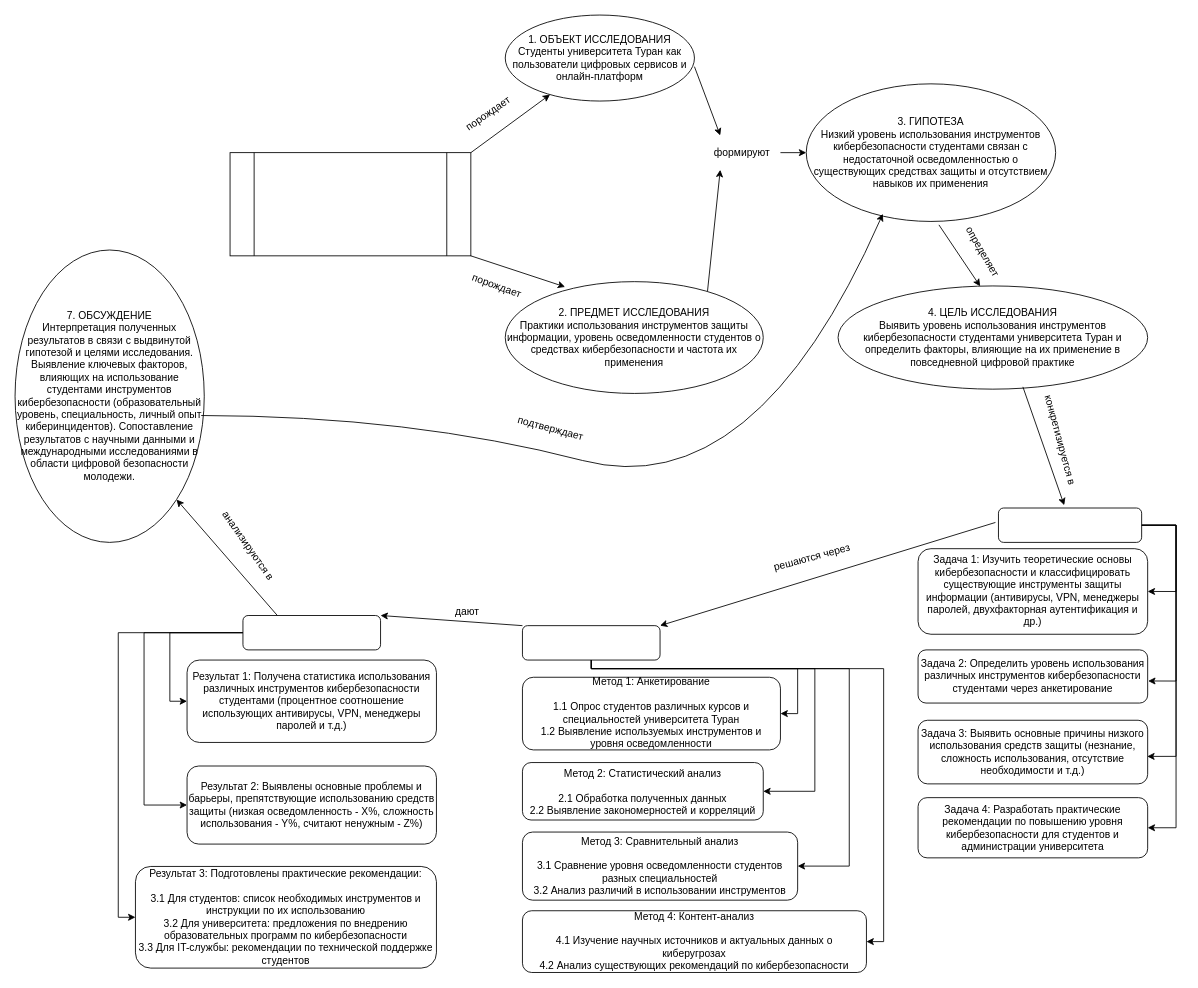
Image size: 1198x988. Some labels were removed from this diagram. The centre of each missing label's shape, as x and y in pixels:
5. ЗАДАЧИ ИССЛЕДОВАНИЯ: point 1070,524
6. МЕТОДЫ ИССЛЕДОВАНИЯ: point 591,642
8. РЕЗУЛЬТАТЫ ИССЛЕДОВАНИЯ: point 311,632
ТЕМА ИССЛЕДОВАНИЯ Использование студентами Турана инструментов кибербезопасности: point 350,204
